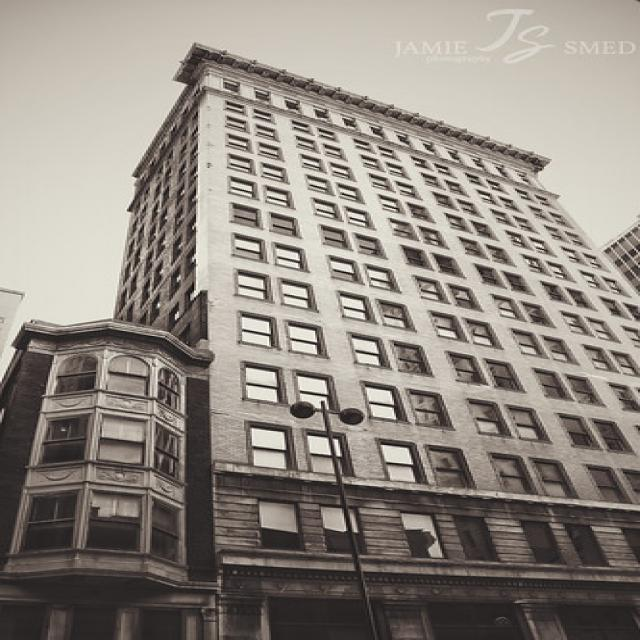Normal_building: (109, 36, 637, 640)
